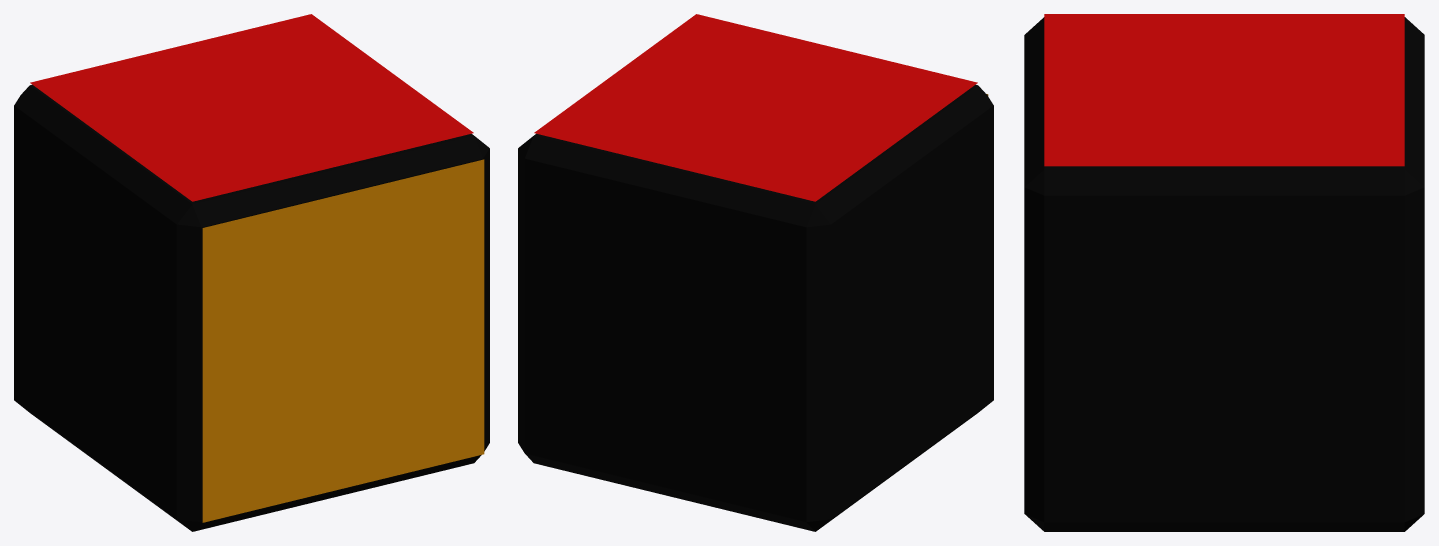
Rendered from rubic6.obj.
The picture shows the model from 3 angles, left to right: view 1: azimuth 30°, elevation 25°; view 2: azimuth 150°, elevation 25°; view 3: azimuth 270°, elevation 25°; orthographic projection. The views are drawn at different scales.
Visible parts, largest first — view 1: Cube.010_Cube.011; view 2: Cube.010_Cube.011; view 3: Cube.010_Cube.011.
Part boxes in pixels (box(x1,y1,x2,y2)): Cube.010_Cube.011: box(14, 14, 489, 531); Cube.010_Cube.011: box(518, 14, 993, 531); Cube.010_Cube.011: box(1024, 14, 1424, 531).
Bounding box in the file's own units: 2 × 2.02 × 2.01.
